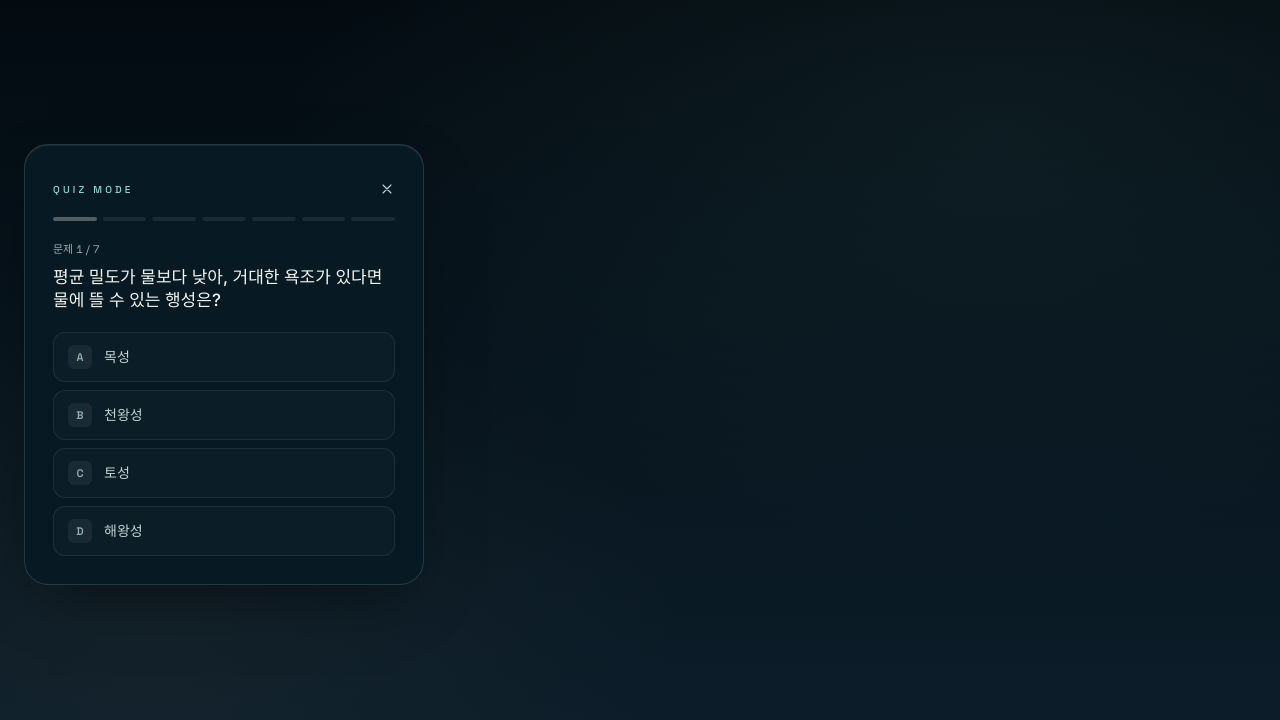
QuizModal › 정답 선택: 피드백 + 점수 + 카메라 대상 이동 + 보기 잠금
The image size is (1280, 720).
Click the button "C 토성". click: click(80, 473)
box: [53,448,395,498]
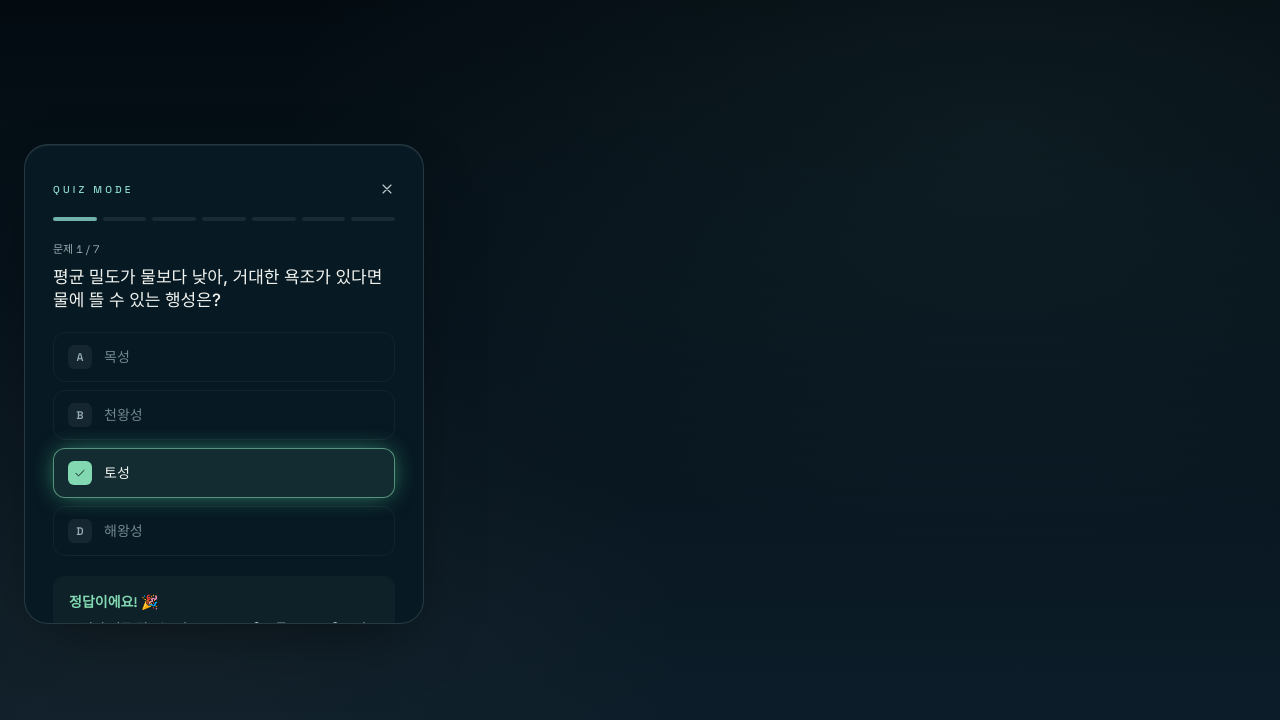
Now the text "정답이에요! 🎉" is shown, box [69,593,158,611]
Now the button "A 목성" is disabled, box [53,332,395,382]
Now the button "B 천왕성" is disabled, box [53,390,395,440]
